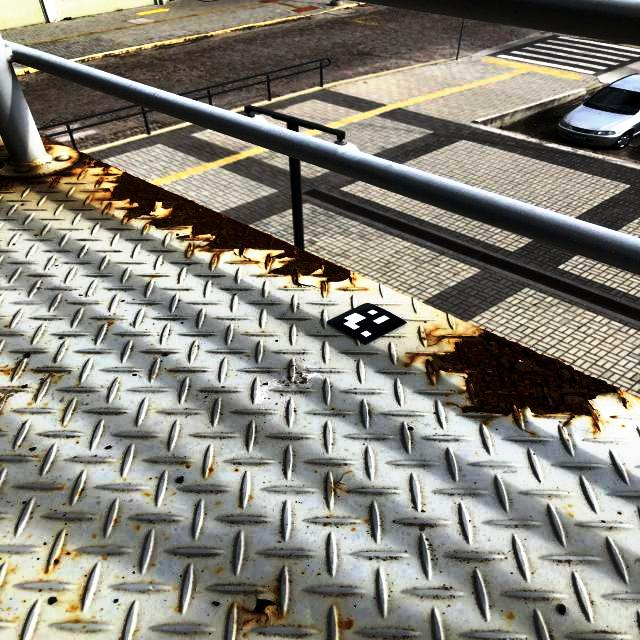Corrosion: (101, 172, 352, 297), (406, 330, 630, 435), (45, 148, 123, 186), (234, 593, 280, 631), (0, 175, 41, 191), (40, 135, 71, 147), (212, 250, 230, 266), (188, 242, 208, 252), (50, 177, 59, 188), (23, 181, 47, 185), (344, 620, 353, 630), (104, 201, 113, 210), (349, 273, 356, 283)
